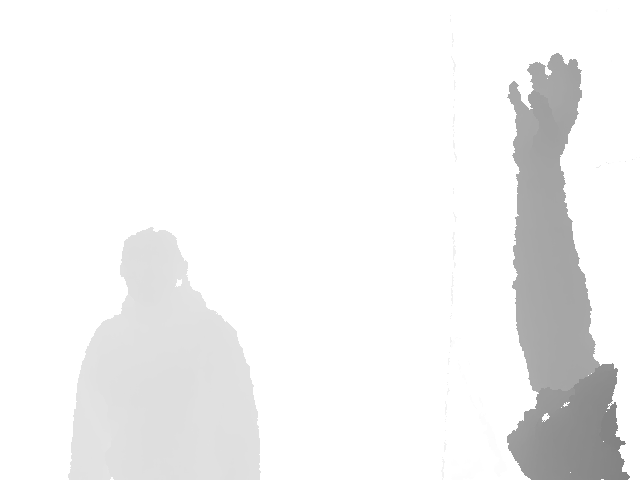hand: (507, 53, 582, 178)
head: (505, 364, 628, 480), (119, 228, 190, 307)
person: (506, 54, 628, 480), (66, 226, 262, 480)
